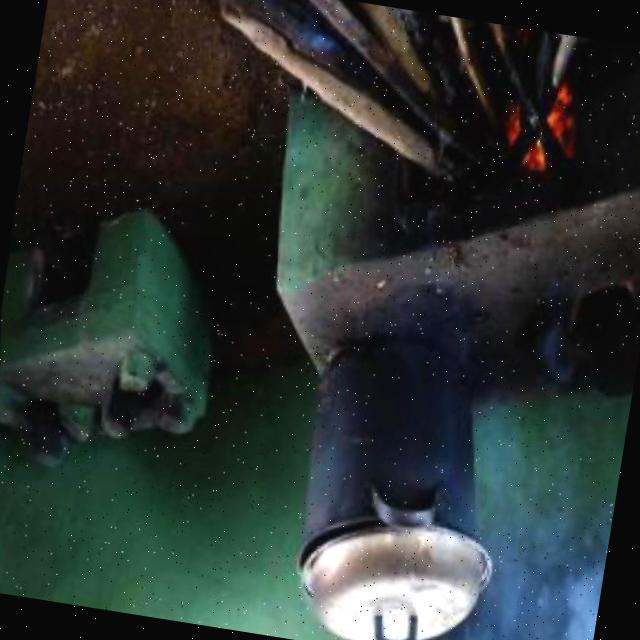fire: (492, 72, 588, 188)
